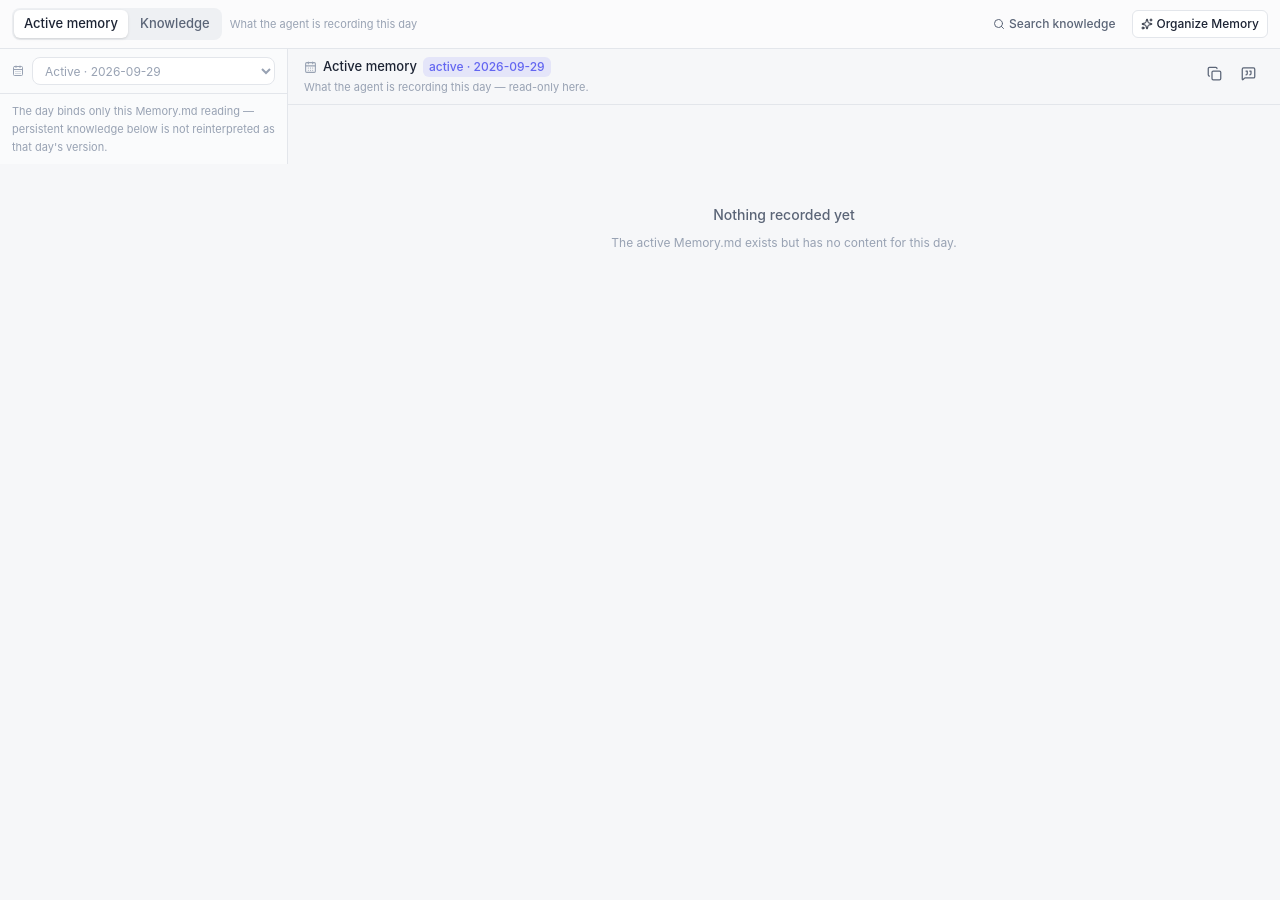
MemoryPage organize › pages further back through next_before instead of trusting the first page
The image size is (1280, 900).
Click the button "Organize Memory": click(1200, 24) top-left (1132, 10), bottom-right (1268, 38)
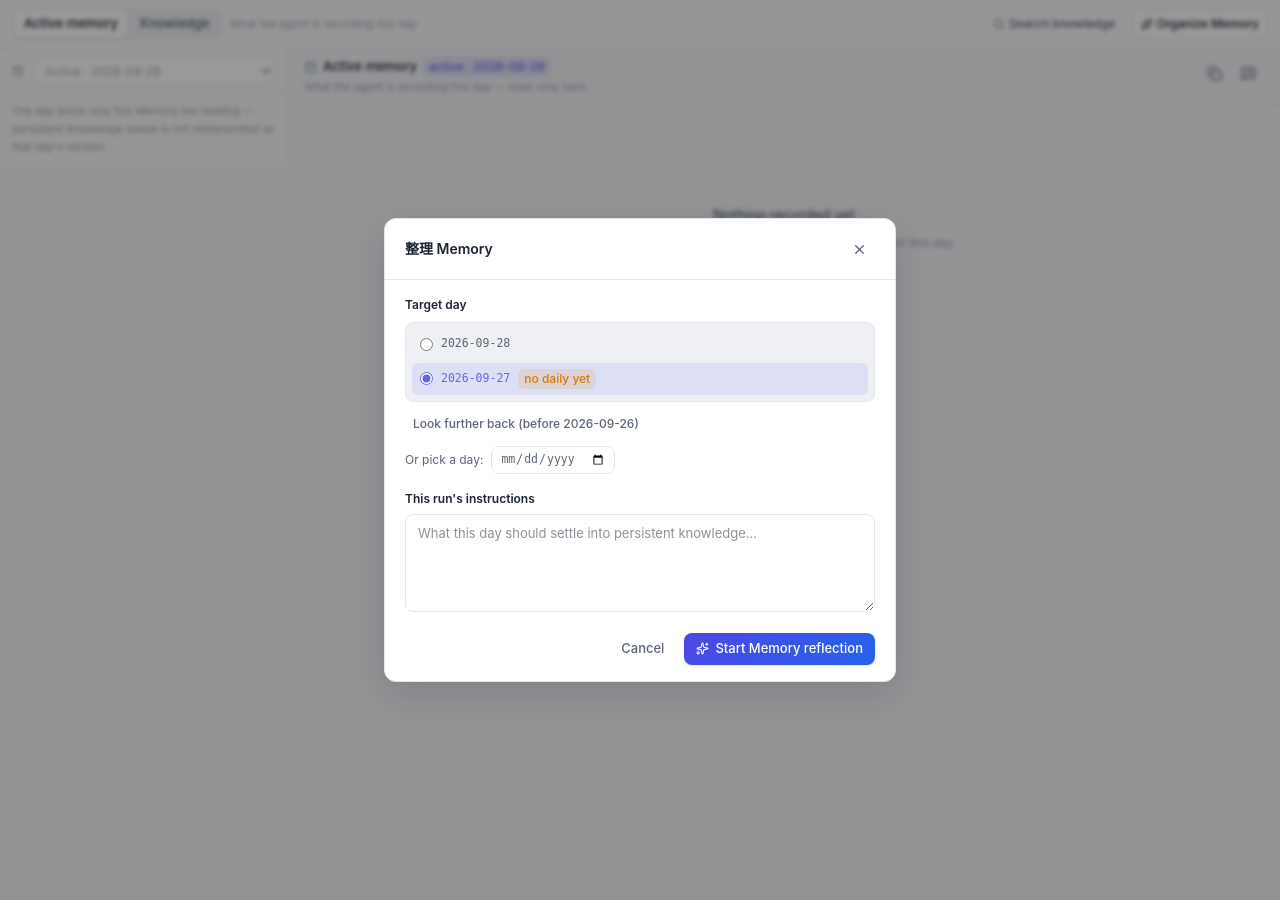
Expected: the text "2026-09-20" is not shown
Now the text "2026-09-28" is shown, box top-left (441, 335), bottom-right (510, 353)
Click the button "Look further back (before 2026-09-26)": click(526, 424) top-left (405, 410), bottom-right (647, 438)
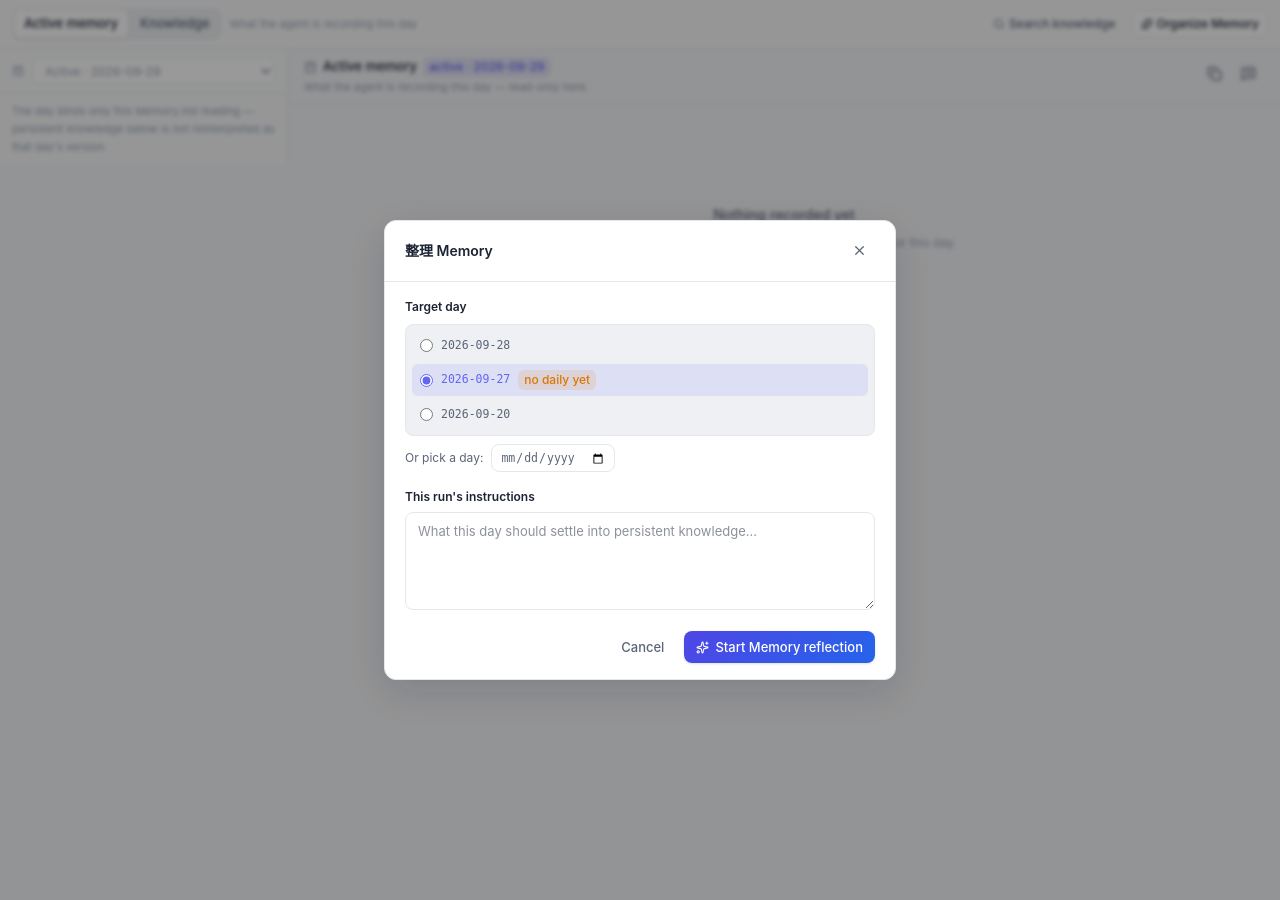
Now the text "2026-09-20" is shown, box top-left (441, 406), bottom-right (510, 423)
